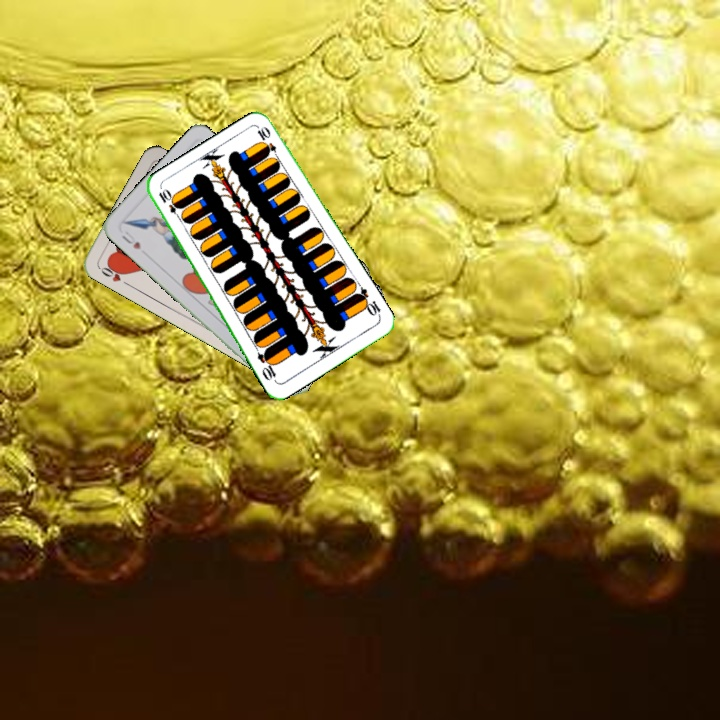E10: (352, 284, 384, 320), (154, 186, 184, 223)
HO: (95, 259, 132, 288)
HU: (118, 227, 144, 252)
